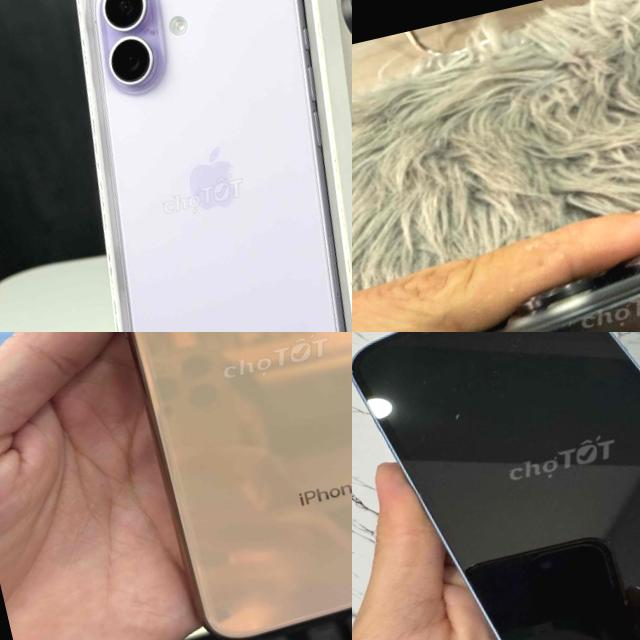gen_14: (352, 332, 640, 640)
gen_16: (489, 255, 640, 332)
gen_17: (42, 0, 352, 332)
gen_x_xs: (126, 332, 352, 638)
scratch: (439, 402, 472, 436), (550, 310, 585, 332), (629, 573, 640, 603)
